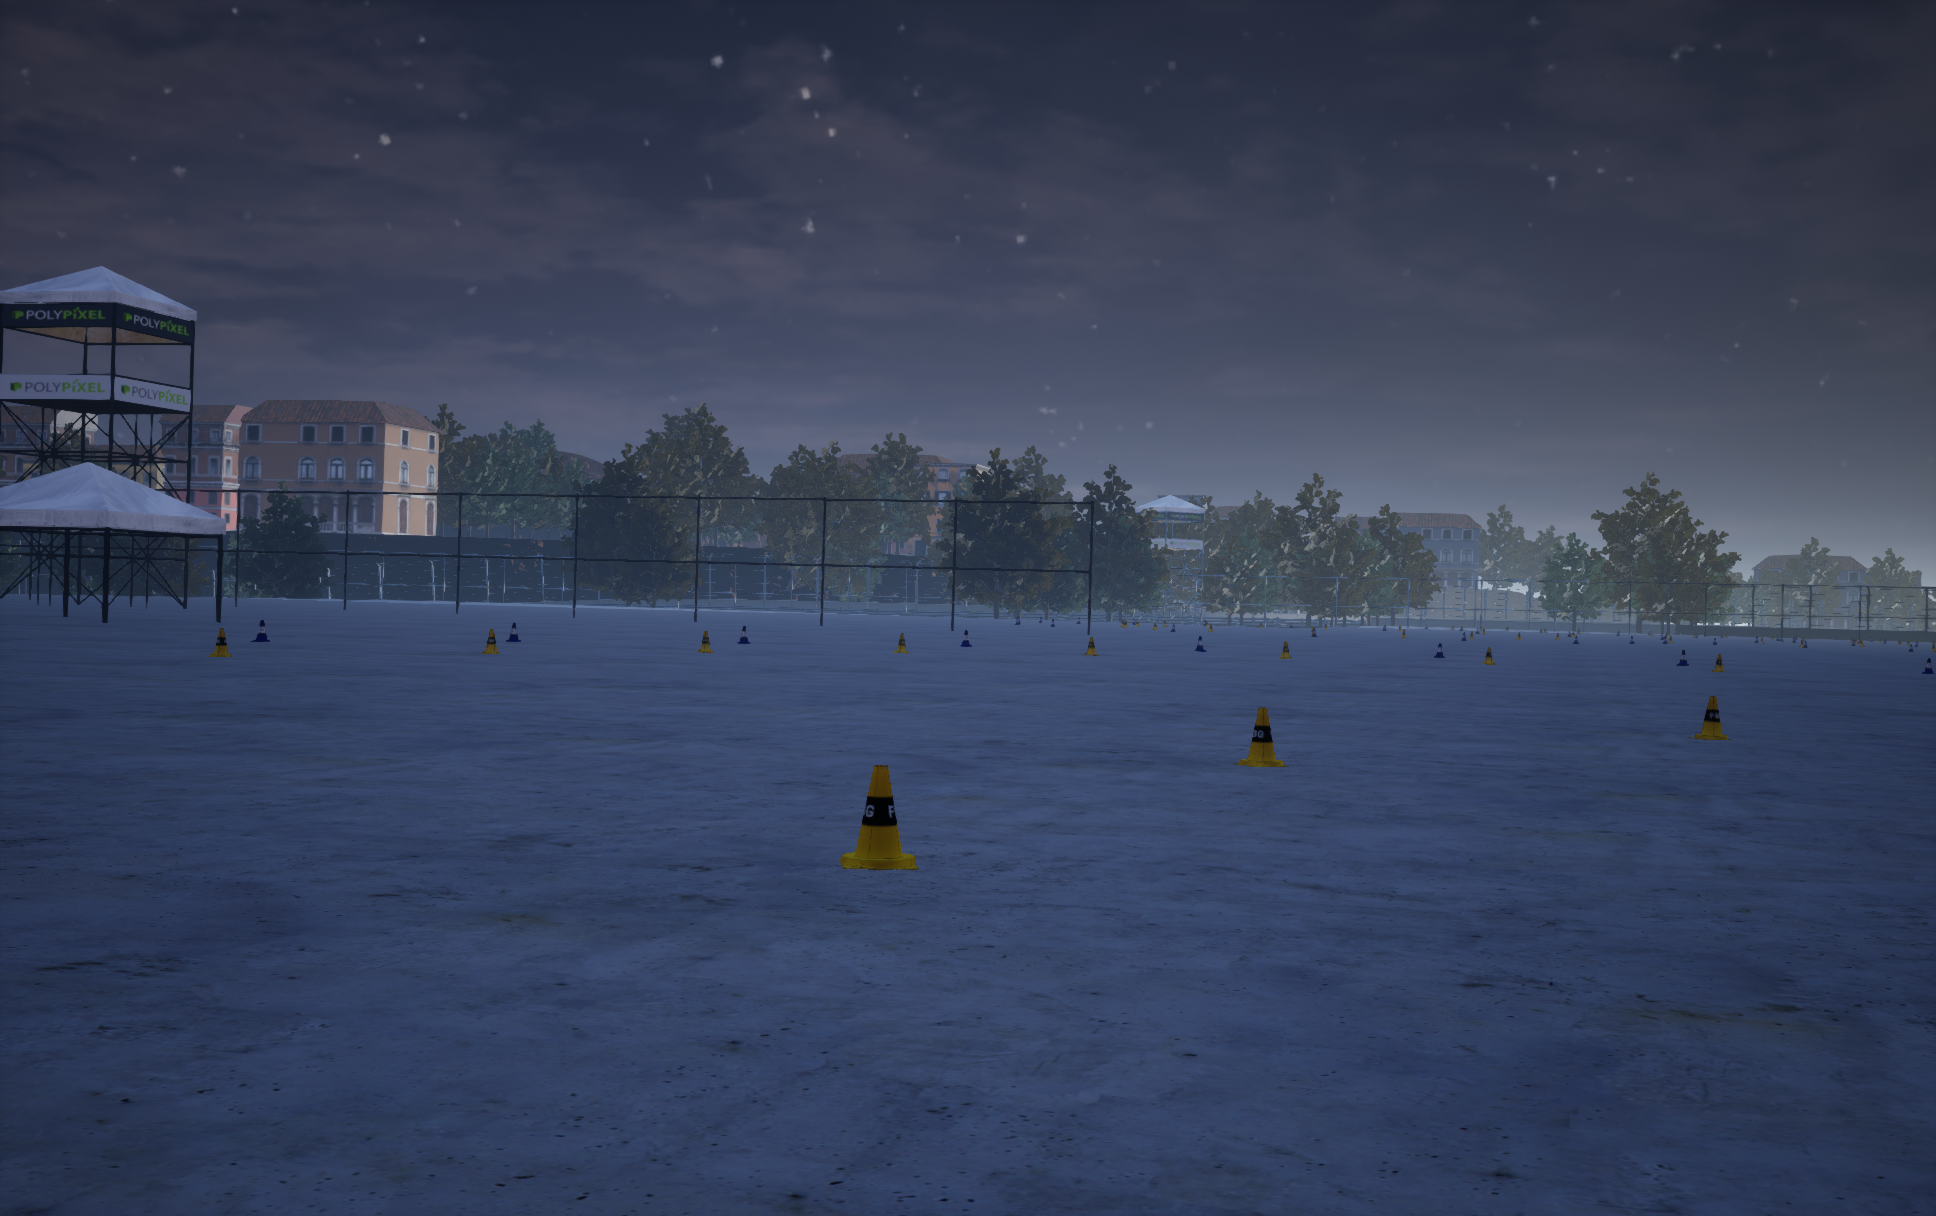blue: (841, 765, 918, 869), (1233, 707, 1289, 766), (1688, 696, 1731, 740), (207, 628, 231, 656), (482, 629, 499, 653), (698, 630, 713, 651), (894, 633, 909, 653), (1084, 637, 1098, 656)
yellow: (249, 621, 269, 642), (506, 622, 520, 642)
